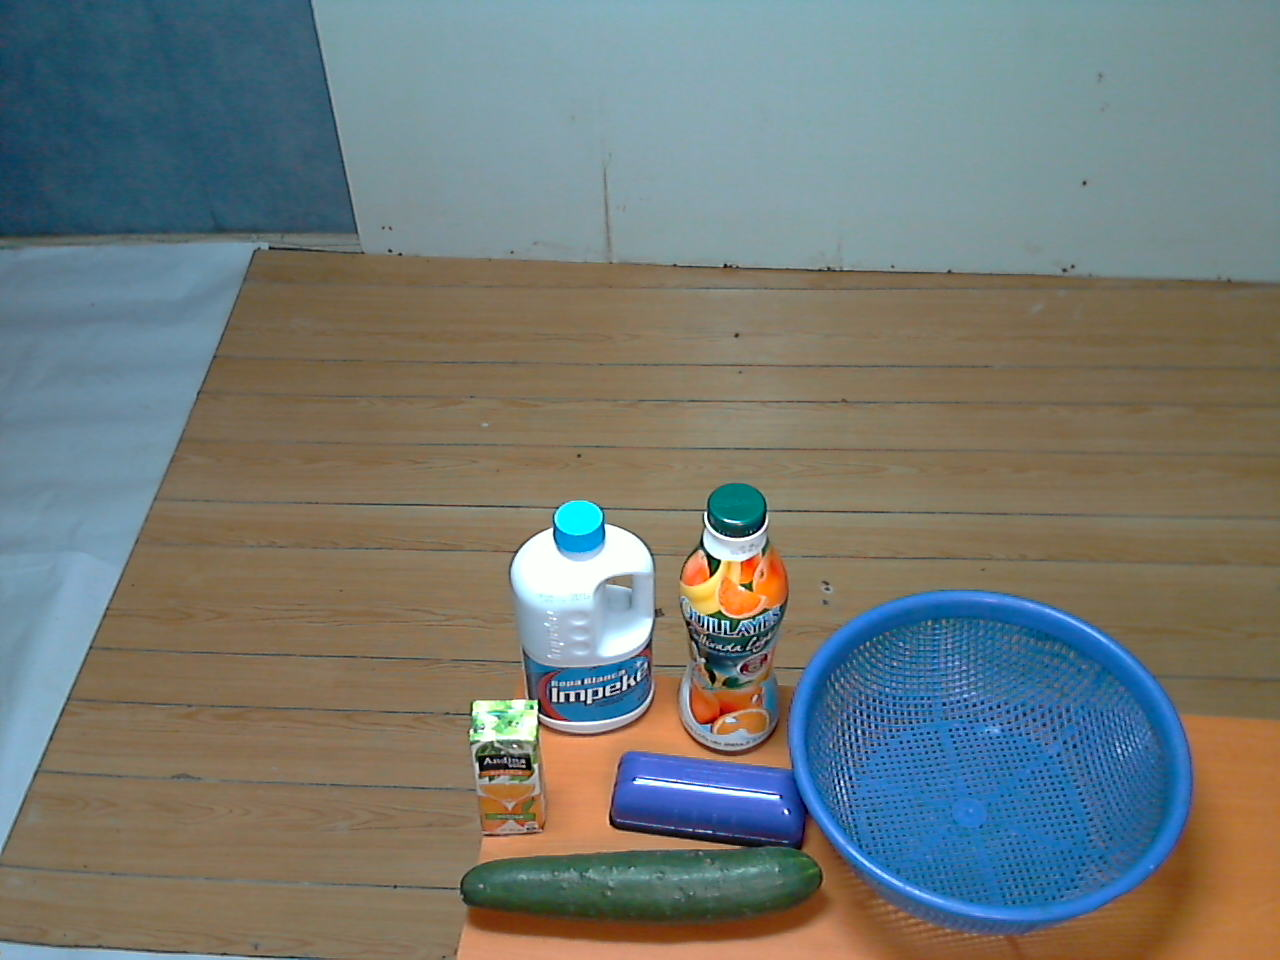borrador: (598, 738, 817, 861)
cloro: (495, 494, 669, 744)
colador: (774, 591, 1204, 941)
jugoind: (454, 689, 558, 847)
pepino: (446, 836, 835, 941)
yogurt: (664, 476, 798, 764)
